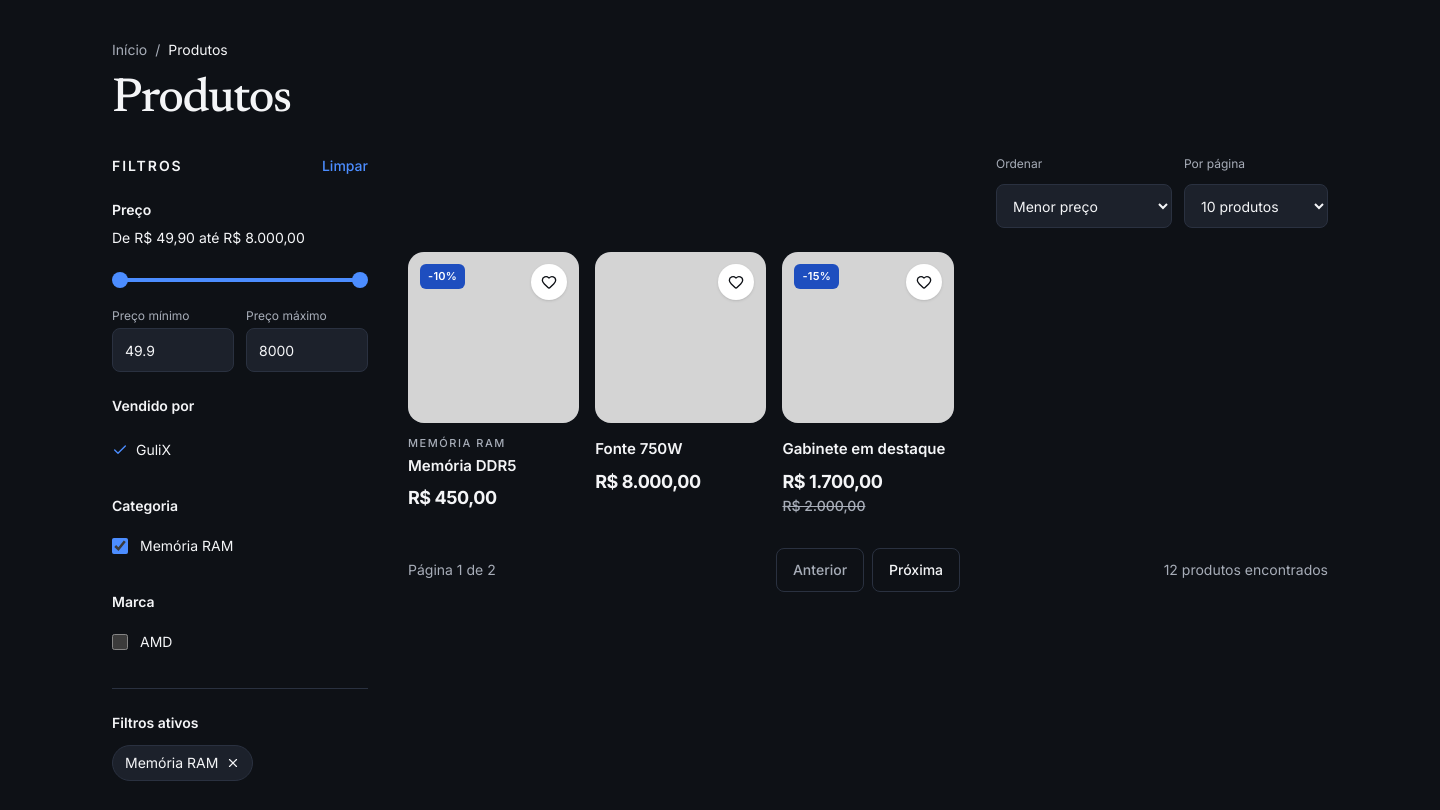
catálogo › abre com a categoria da query e permite removê-la
Expected: the checkbox labelled "Memória RAM" is checked, [112,538,128,554]
Step 1. Click the button with aria-label "Remover Memória RAM" → coordinates (183, 763), box [112,745,253,781]
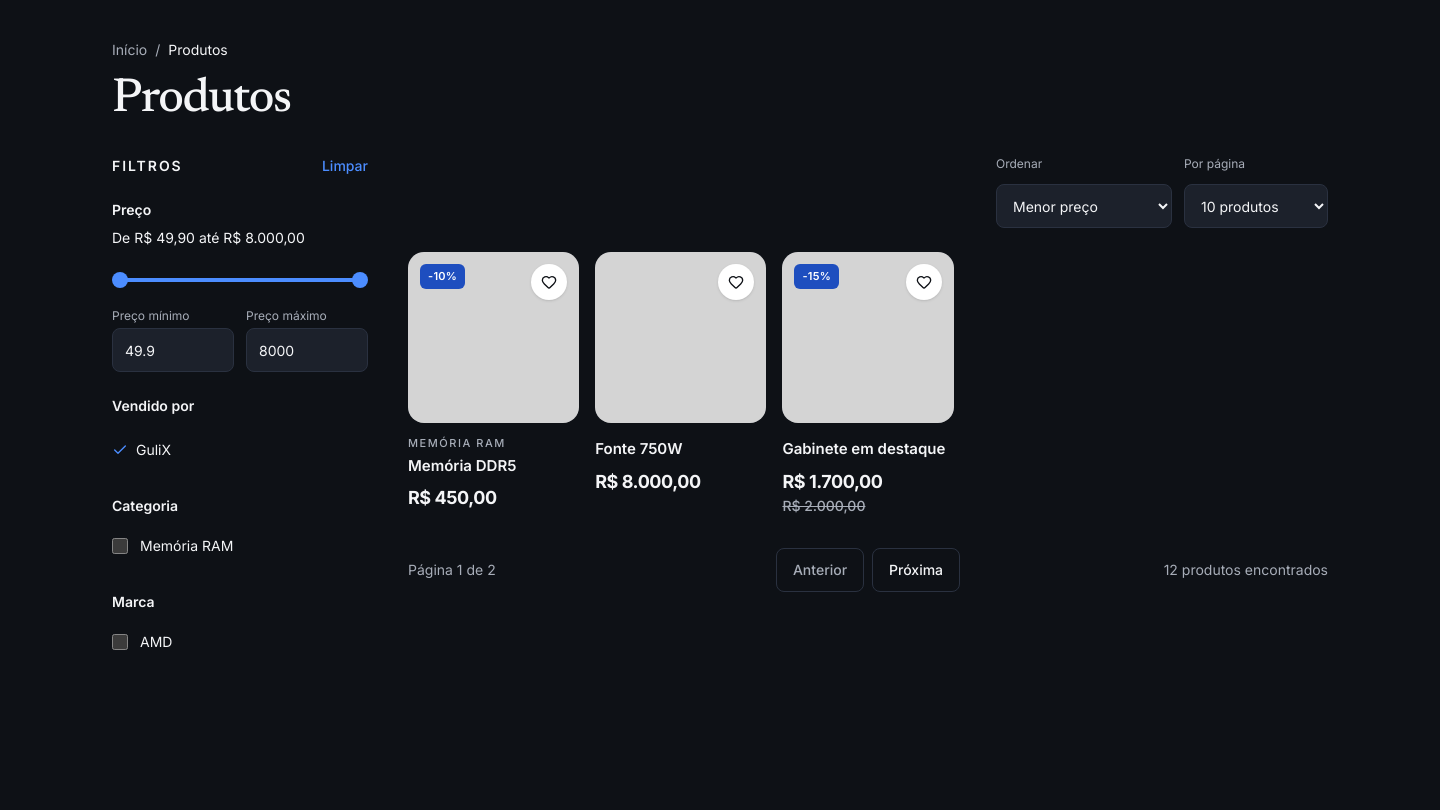
Expected: the checkbox labelled "Memória RAM" is not checked, [112,538,128,554]
